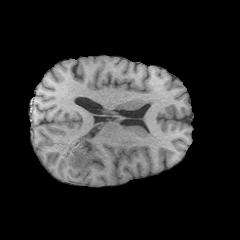glioma: (59, 134, 98, 173)
